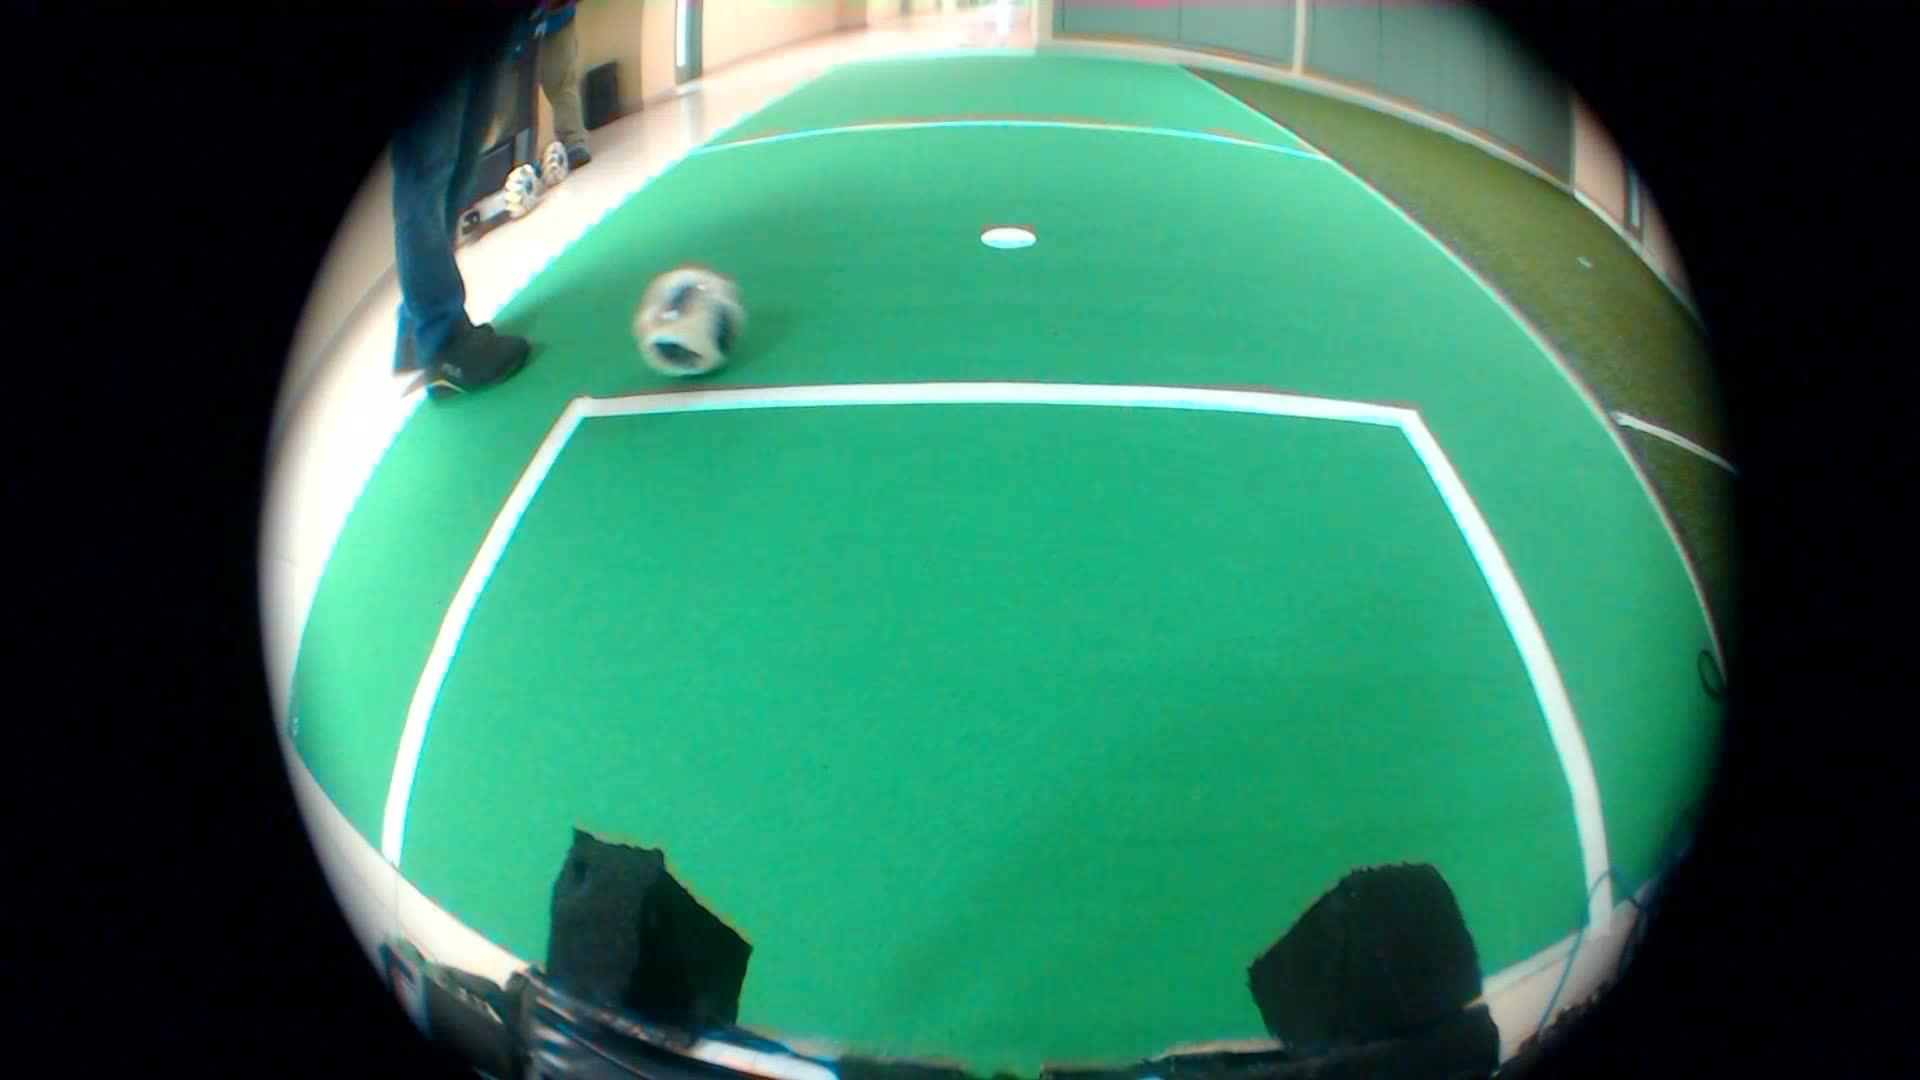ball: (617, 255, 757, 396)
